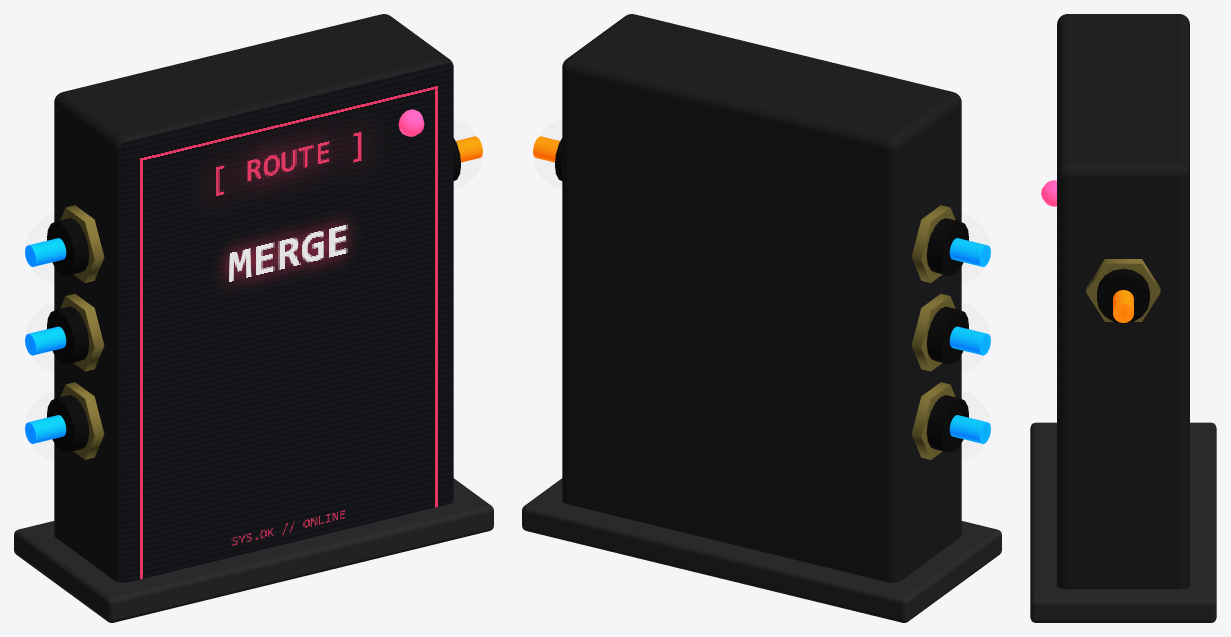
The model's file is route_merge.glb.
The picture shows the model from 3 angles, left to right: view 1: azimuth 30°, elevation 25°; view 2: azimuth 150°, elevation 25°; view 3: azimuth 270°, elevation 25°; orthographic projection. The views are drawn at different scales.
Visible parts, largest first — view 1: chassis, bracket, socket (×3), hex_nut (×3), pin (×3); view 2: chassis, bracket, socket (×3), hex_nut (×3), pin (×3); view 3: chassis, bracket, socket, hex_nut, pin, status_led.
Part boxes in pixels (x1,y1,x2,y2): chassis: [54, 14, 453, 582]; bracket: [14, 478, 493, 622]; socket (×3): [47, 218, 89, 452]; hex_nut (×3): [60, 205, 104, 459]; pin (×3): [25, 238, 66, 443]; chassis: [562, 14, 961, 582]; bracket: [522, 478, 1001, 622]; socket (×3): [926, 218, 968, 452]; hex_nut (×3): [911, 205, 955, 459]; pin (×3): [949, 238, 990, 443]; chassis: [1057, 14, 1189, 589]; bracket: [1030, 422, 1216, 622]; socket: [1097, 268, 1149, 323]; hex_nut: [1086, 259, 1160, 321]; pin: [1113, 290, 1133, 322]; status_led: [1041, 180, 1056, 206].
Size of the model in its own units: 1.86 by 1.85 by 0.7.
12 materials, 1 textured.
